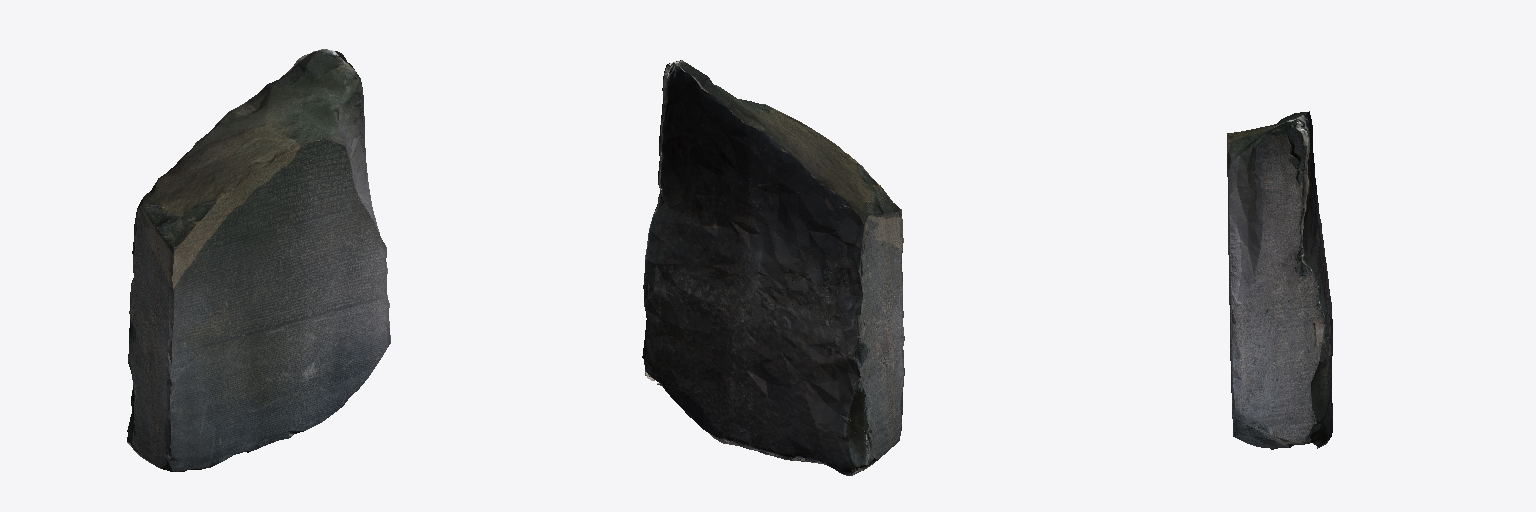
The picture shows the model from 3 angles: view 1: azimuth 30°, elevation 25°; view 2: azimuth 150°, elevation 25°; view 3: azimuth 270°, elevation 25°; orthographic projection.
Bounding box in the file's own units: 11.66 × 17.76 × 4.76.
1 materials, 1 textured.